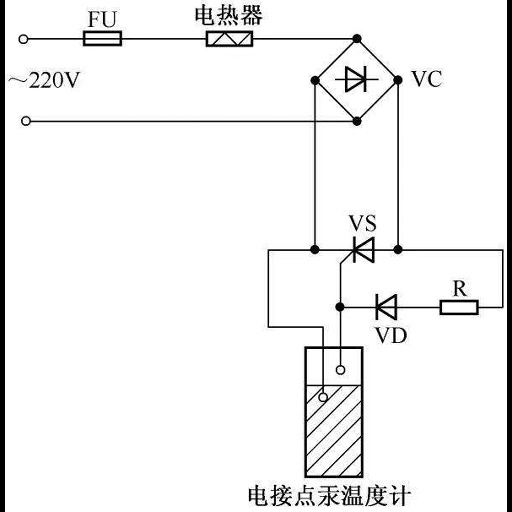firstresistance: (434, 297, 483, 322)
fuse: (77, 26, 126, 53)
seconddiode: (364, 291, 407, 323)
